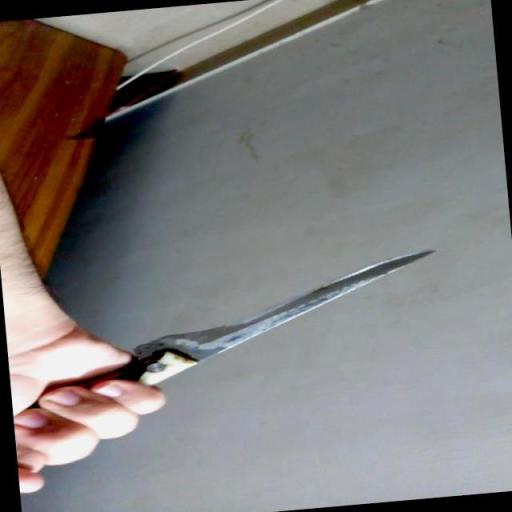knife: (106, 248, 444, 389)
